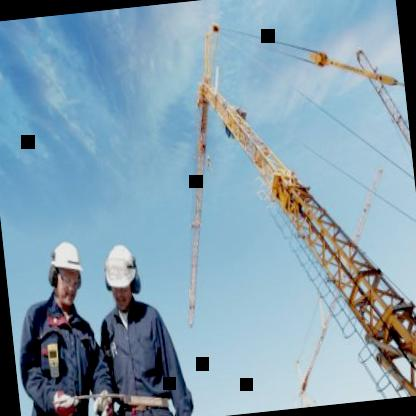helmet: (39, 226, 89, 316), (96, 232, 146, 313)
